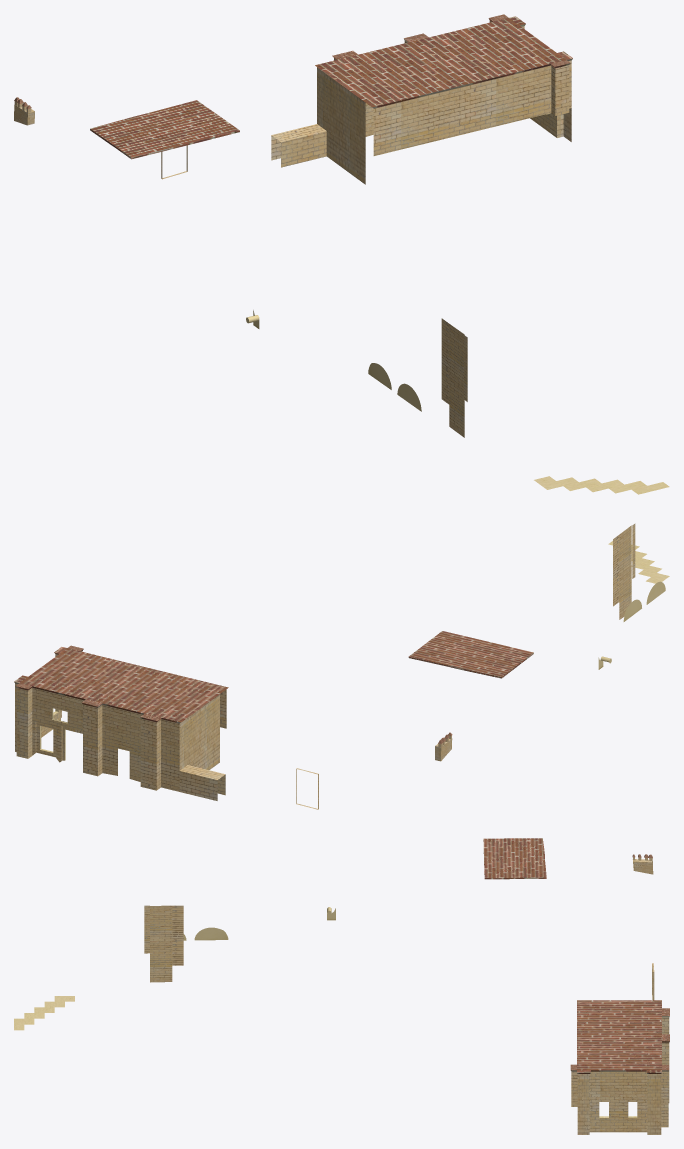
Rendered from catedral11bx.fbx.
The picture shows the model from 3 angles, top to bottom: view 1: azimuth 30°, elevation 25°; view 2: azimuth 150°, elevation 25°; view 3: azimuth 270°, elevation 25°; orthographic projection. The views are drawn at different scales.
Parts seen in each view (by area): view 1: Cube.068, Cube.067, Cube.043, Cube.029, Cube.085, Cube.092; view 2: Cube.068, Cube.067, Cube.043, Cube.029, Cube.085, Cube.092, Cube.057; view 3: Cube.067, Cube.068, Cube.029, Cube.043, Cube.092.
Boxes of the visible parts, x1,y1,x2,y2 form: Cube.068: (317,20,571,184); Cube.067: (315,14,572,108); Cube.043: (90,100,239,159); Cube.029: (441,318,467,437); Cube.085: (271,124,326,167); Cube.092: (246,310,669,494); Cube.068: (15,651,226,791); Cube.067: (14,645,228,723); Cube.043: (408,631,533,678); Cube.029: (613,523,635,619); Cube.085: (179,765,225,800); Cube.092: (598,541,669,669); Cube.057: (623,581,665,621); Cube.067: (570,1000,669,1073); Cube.068: (571,1017,669,1134); Cube.029: (144,905,183,982); Cube.043: (483,838,546,879); Cube.092: (14,907,335,1030).
Bounding box in the file's own units: 19149 × 5560 × 28933.
